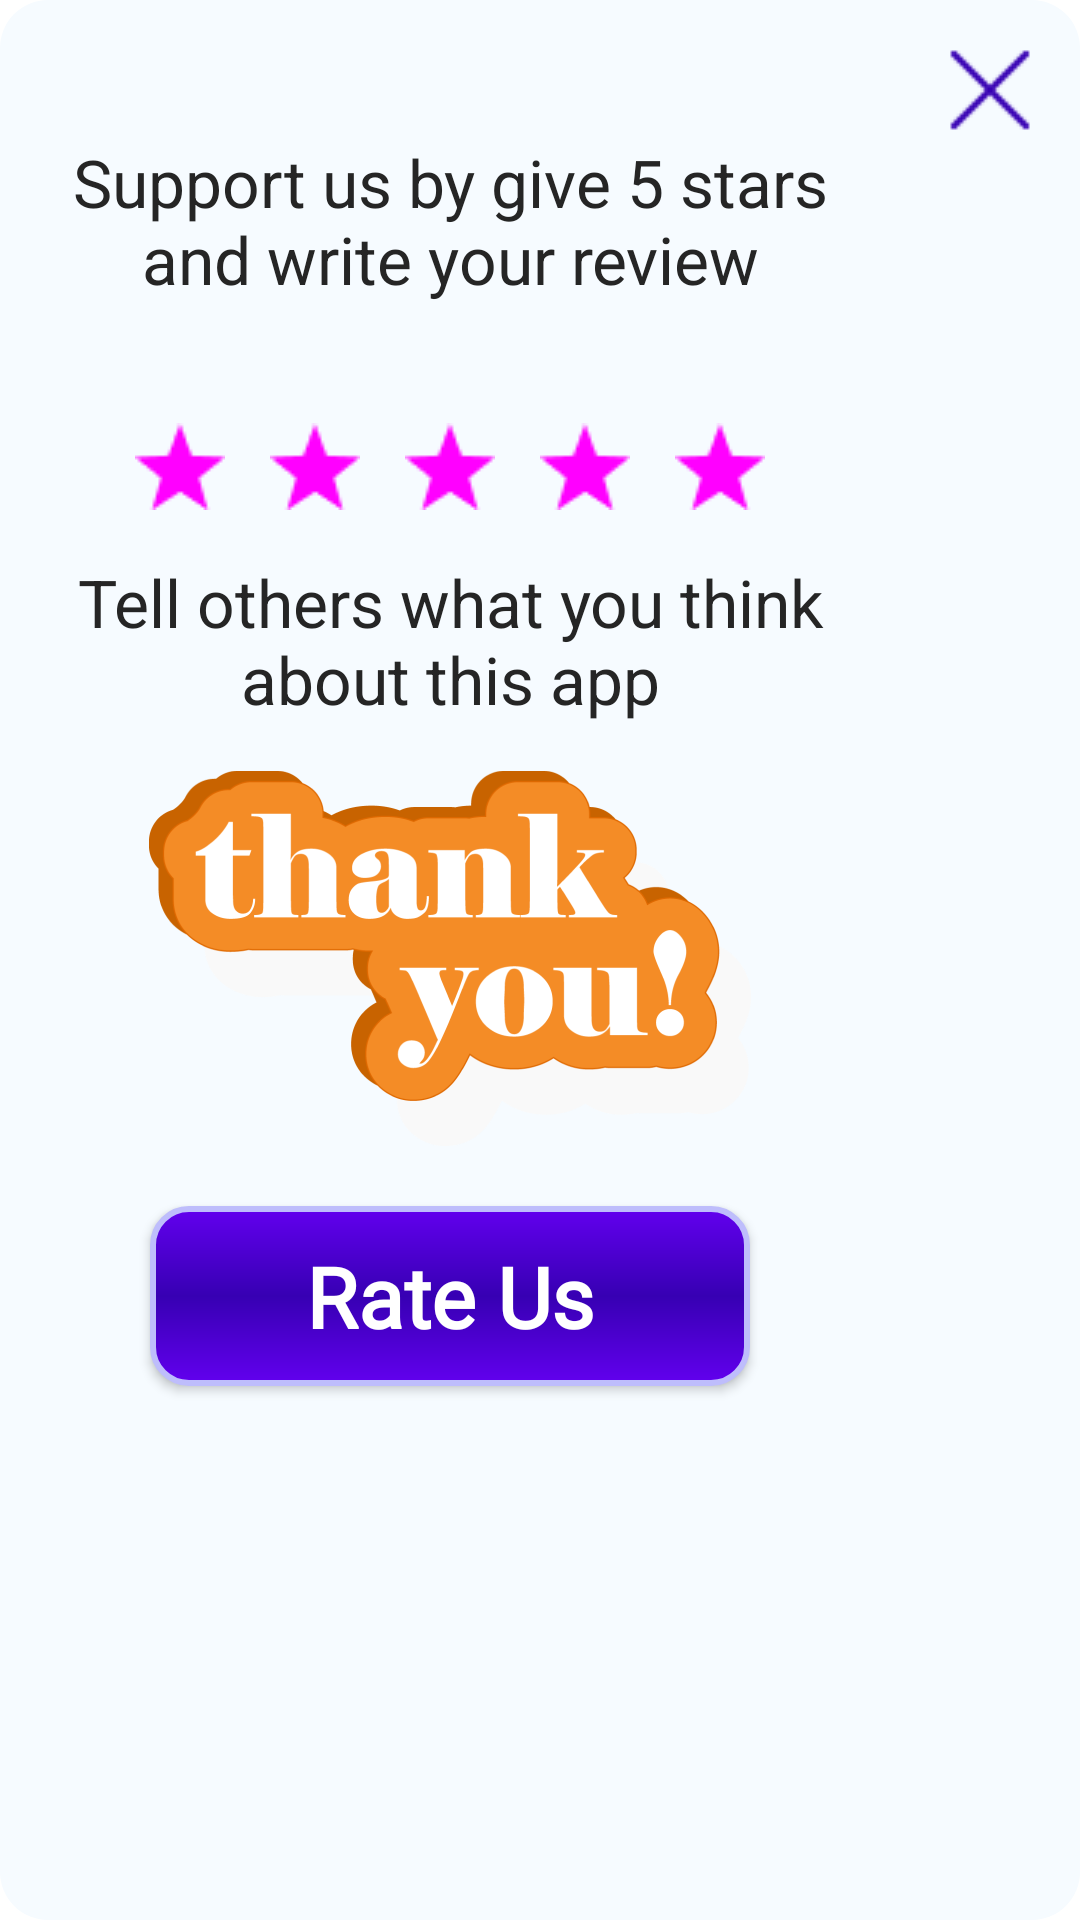

Icons on this 1080*1920 Android screen, each with its box as (x1, y1, x2, y2):
close: (950, 50, 1030, 130)
